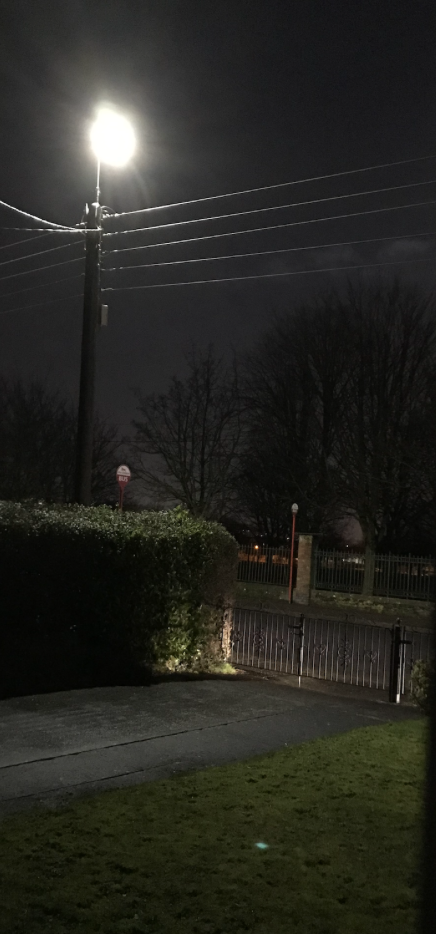LED: (76, 89, 159, 181)
